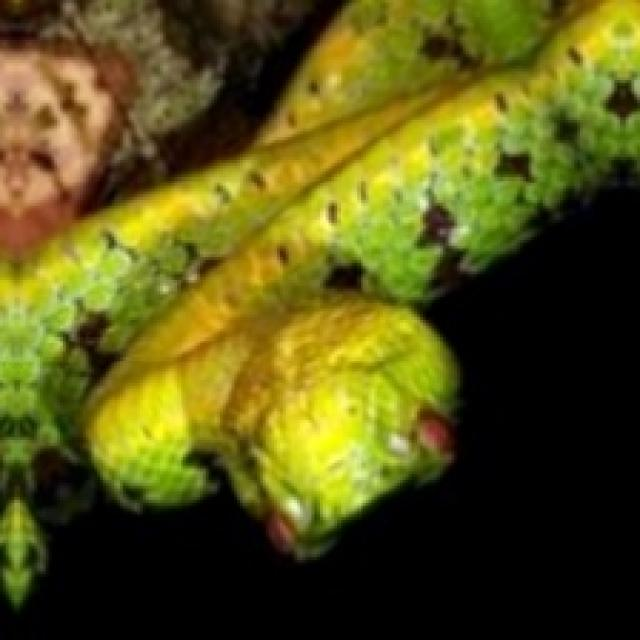philippine pitviper: (0, 0, 637, 603)
